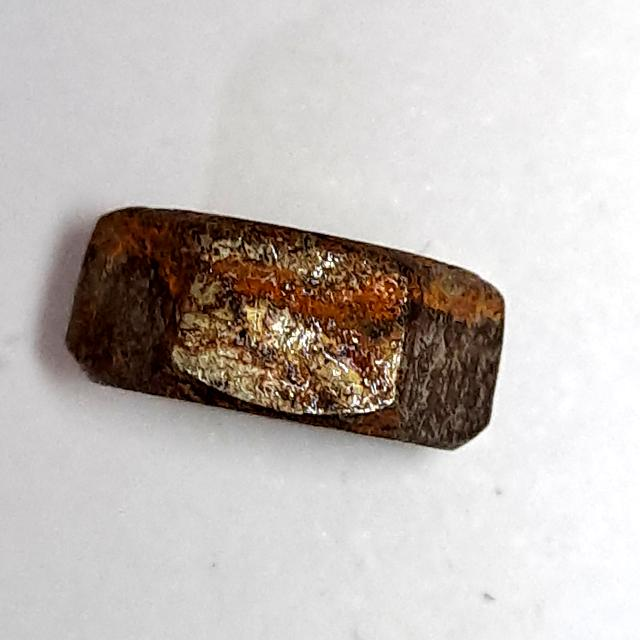Side_Rust: (49, 190, 522, 470)
